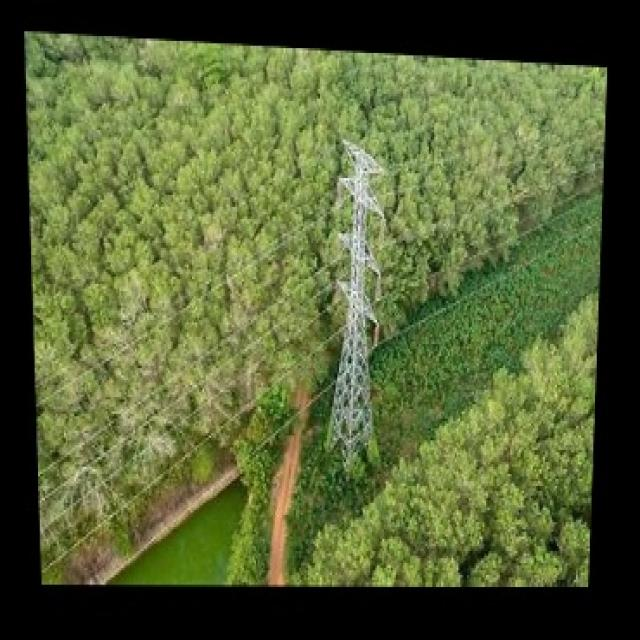utility poles: (320, 114, 392, 463)
